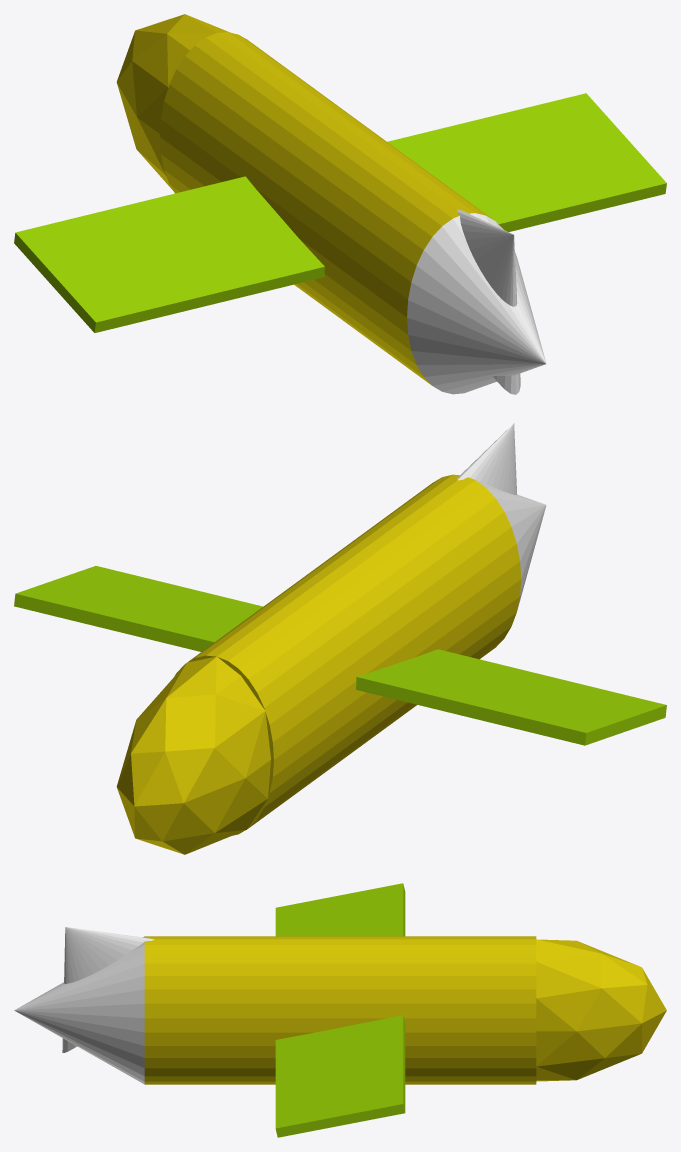
Rendered from airplane.fbx.
3 renders of one model, top to bottom at view 1: azimuth 30°, elevation 25°; view 2: azimuth 150°, elevation 25°; view 3: azimuth 270°, elevation 25°, orthographic. The views are drawn at different scales.
Parts seen in each view (by area): view 1: Cube, Cylinder, Cone, Icosphere, Cone.001; view 2: Cylinder, Cube, Icosphere, Cone, Cone.001; view 3: Cylinder, Cube, Icosphere, Cone, Cone.001.
Part boxes in pixels (x1,y1,x2,y2): Cube: (14,93,666,332); Cylinder: (159,32,494,385); Cone: (407,213,546,394); Icosphere: (116,14,246,190); Cone.001: (457,209,520,394); Cylinder: (174,474,521,835); Cube: (14,566,666,745); Icosphere: (116,656,270,854); Cone: (474,479,546,609); Cone.001: (457,423,517,494); Cylinder: (144,936,536,1084); Cube: (275,883,405,1137); Icosphere: (534,939,666,1081); Cone: (14,936,144,1084); Cone.001: (62,927,154,1052).
Size of the model in its own units: 800 by 261 by 1000.
